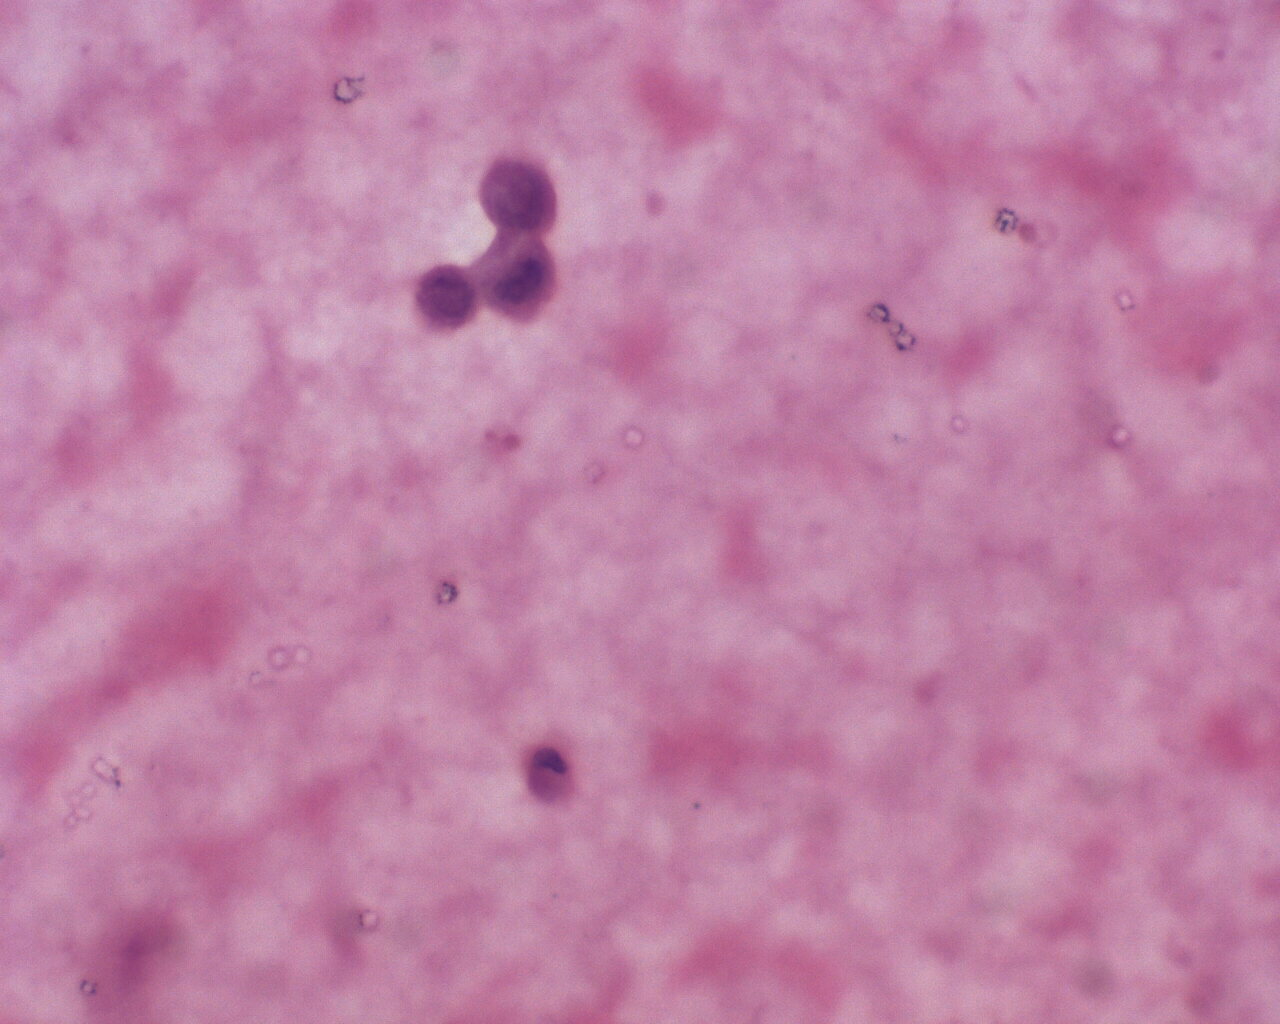ab: (469, 226, 559, 329), (474, 153, 561, 236), (413, 261, 482, 331)
